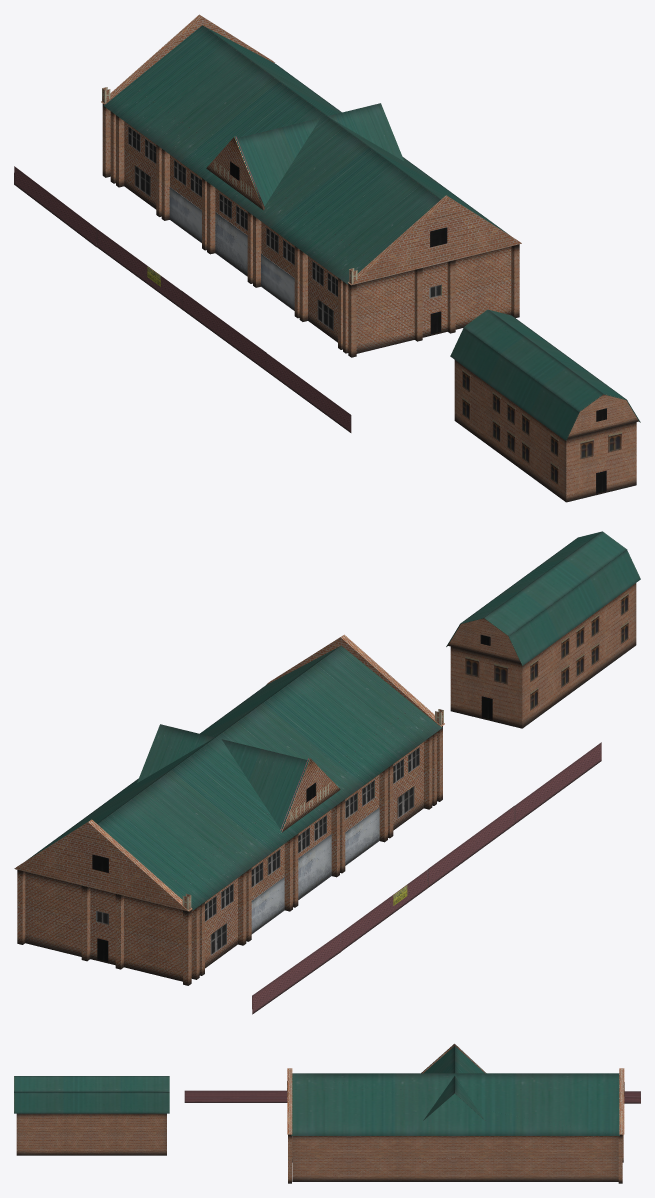
File: r402_druzhino_kemping.FBX
3 renders of one model, top to bottom at view 1: azimuth 30°, elevation 25°; view 2: azimuth 150°, elevation 25°; view 3: azimuth 270°, elevation 25°, orthographic. The views are drawn at different scales.
Visible parts, largest first — view 1: r402_druzhino_kemping, r402_druzhino_kemping3, r402_druzhino_kemping2; view 2: r402_druzhino_kemping, r402_druzhino_kemping3, r402_druzhino_kemping2; view 3: r402_druzhino_kemping, r402_druzhino_kemping3, r402_druzhino_kemping2.
Part boxes in pixels (bbox=[...]): r402_druzhino_kemping: bbox=[101, 14, 521, 357]; r402_druzhino_kemping3: bbox=[450, 309, 640, 502]; r402_druzhino_kemping2: bbox=[14, 166, 351, 432]; r402_druzhino_kemping: bbox=[14, 634, 444, 985]; r402_druzhino_kemping3: bbox=[446, 531, 640, 728]; r402_druzhino_kemping2: bbox=[252, 742, 601, 1014]; r402_druzhino_kemping: bbox=[287, 1043, 624, 1183]; r402_druzhino_kemping3: bbox=[14, 1076, 169, 1155]; r402_druzhino_kemping2: bbox=[184, 1090, 640, 1103].
Bounding box in the file's own units: 28.31 × 91.95 × 14.91.
